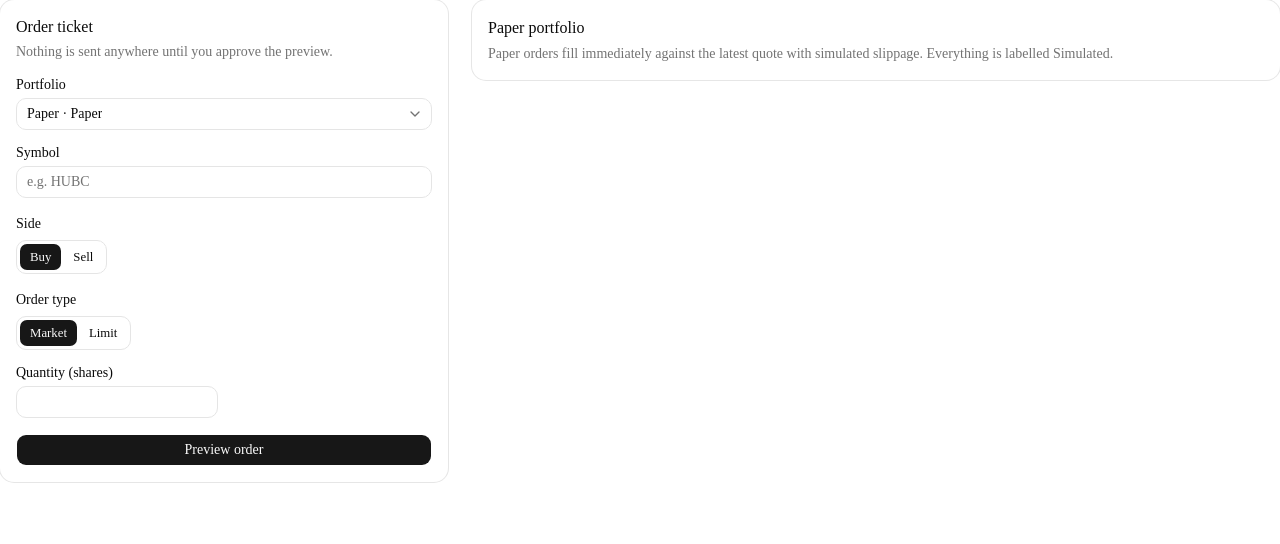
Scenario: Order ticket › shows validation errors and does not preview an invalid ticket
Expected: the dropdown named "portfolio" shows "·", left=16, top=98, right=432, bottom=130
Click the button "Preview order".
click(224, 450)  # box left=16, top=434, right=432, bottom=466
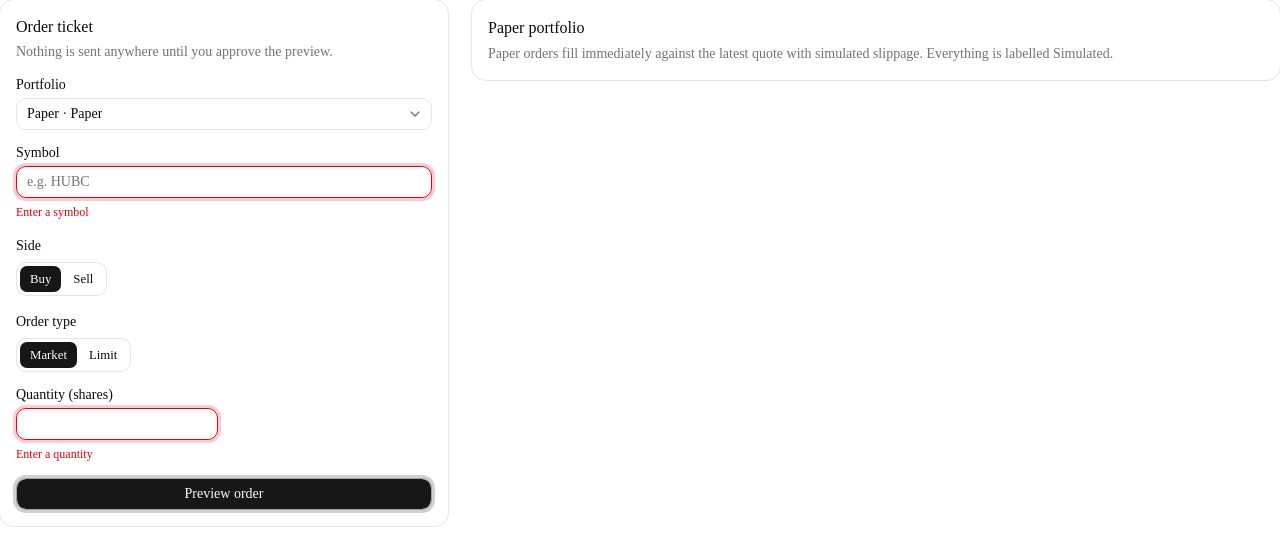
Expected: the text "Enter a symbol" is shown, left=16, top=205, right=89, bottom=219
Expected: the text "Enter a quantity" is shown, left=16, top=447, right=93, bottom=461
Type "OGDC" into the field labelled "Symbol".
click(224, 182); type("OGDC")  # box left=16, top=166, right=432, bottom=198
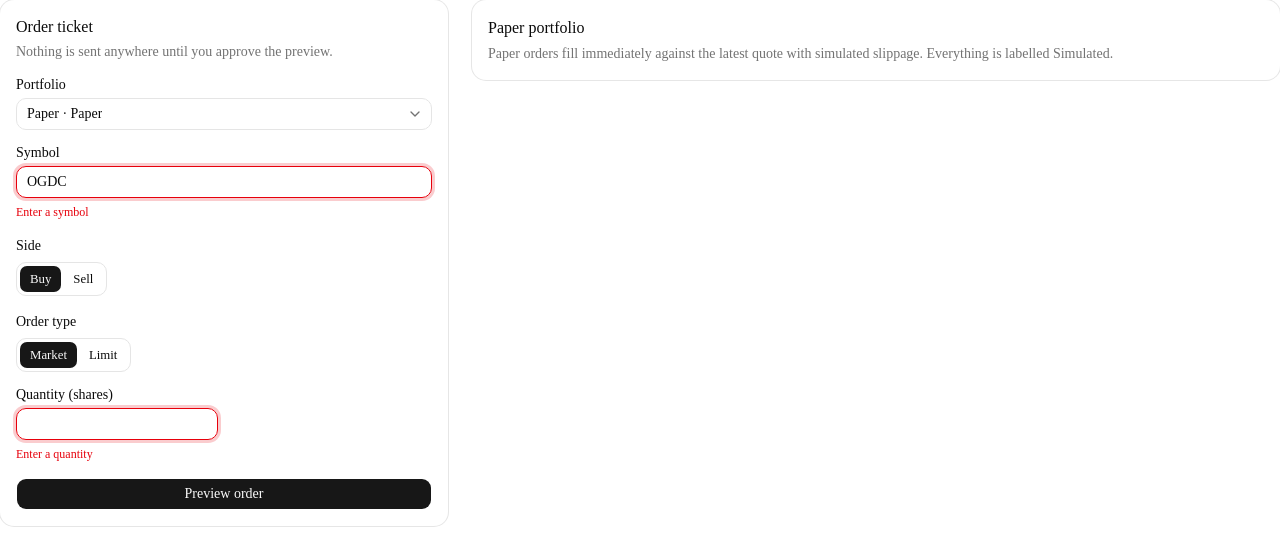
Type "2.5" into the field labelled "Quantity (shares)".
click(117, 424); type("2.5")  # box left=16, top=408, right=218, bottom=440
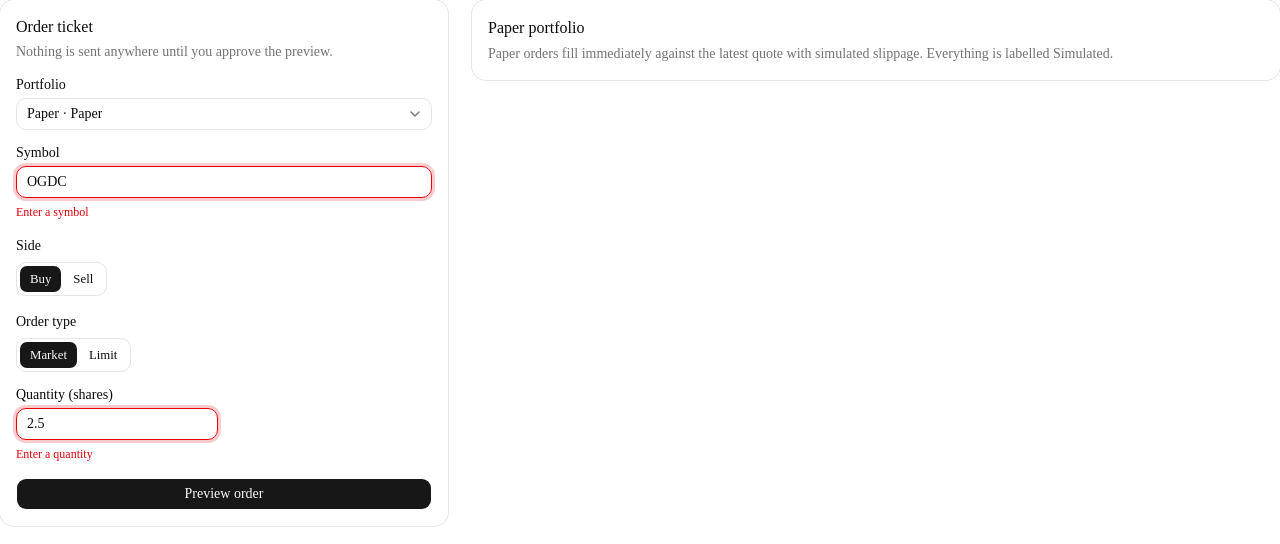
Click the button "Limit".
click(103, 355)  # box left=78, top=341, right=128, bottom=369
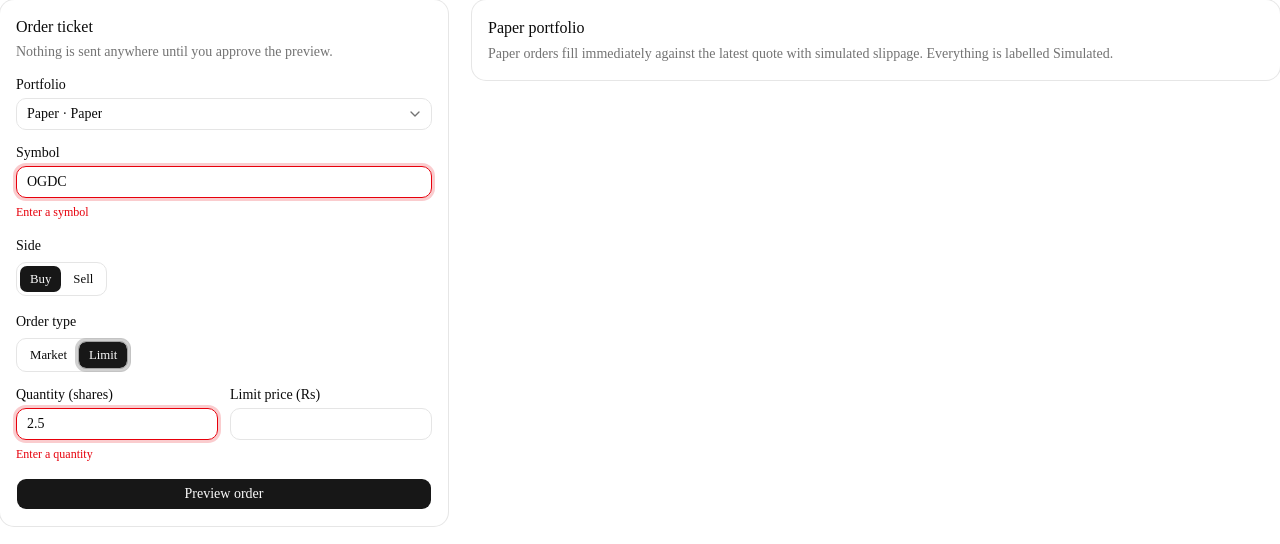
Click the button "Preview order".
click(224, 494)  # box left=16, top=478, right=432, bottom=510
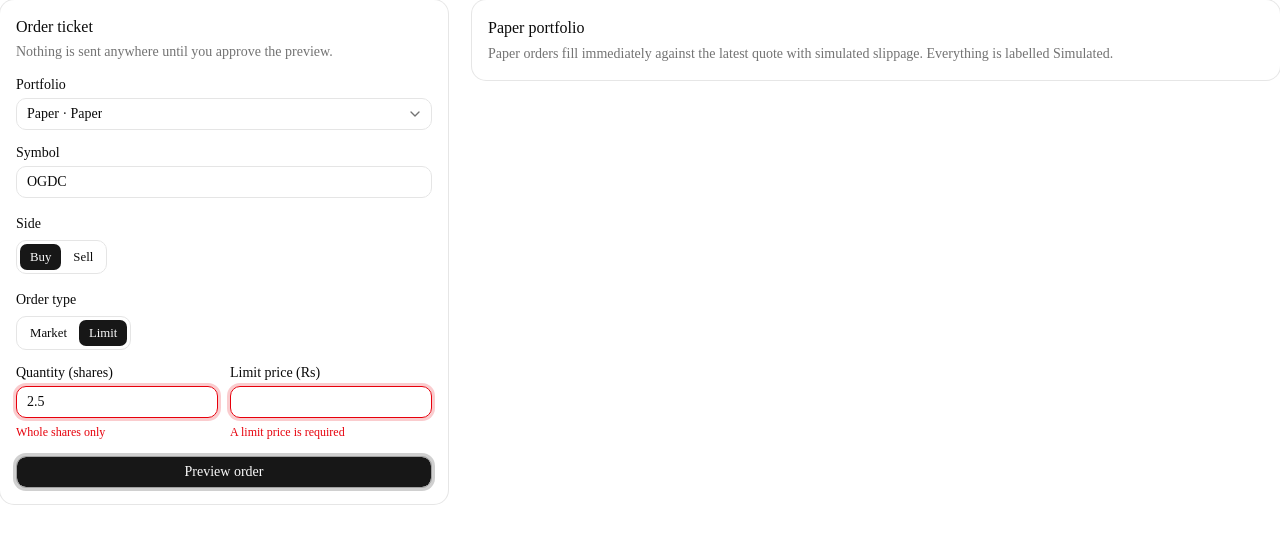
Expected: the text "Whole shares only" is shown, left=16, top=425, right=105, bottom=439
Expected: the text "A limit price is required" is shown, left=230, top=425, right=345, bottom=439
